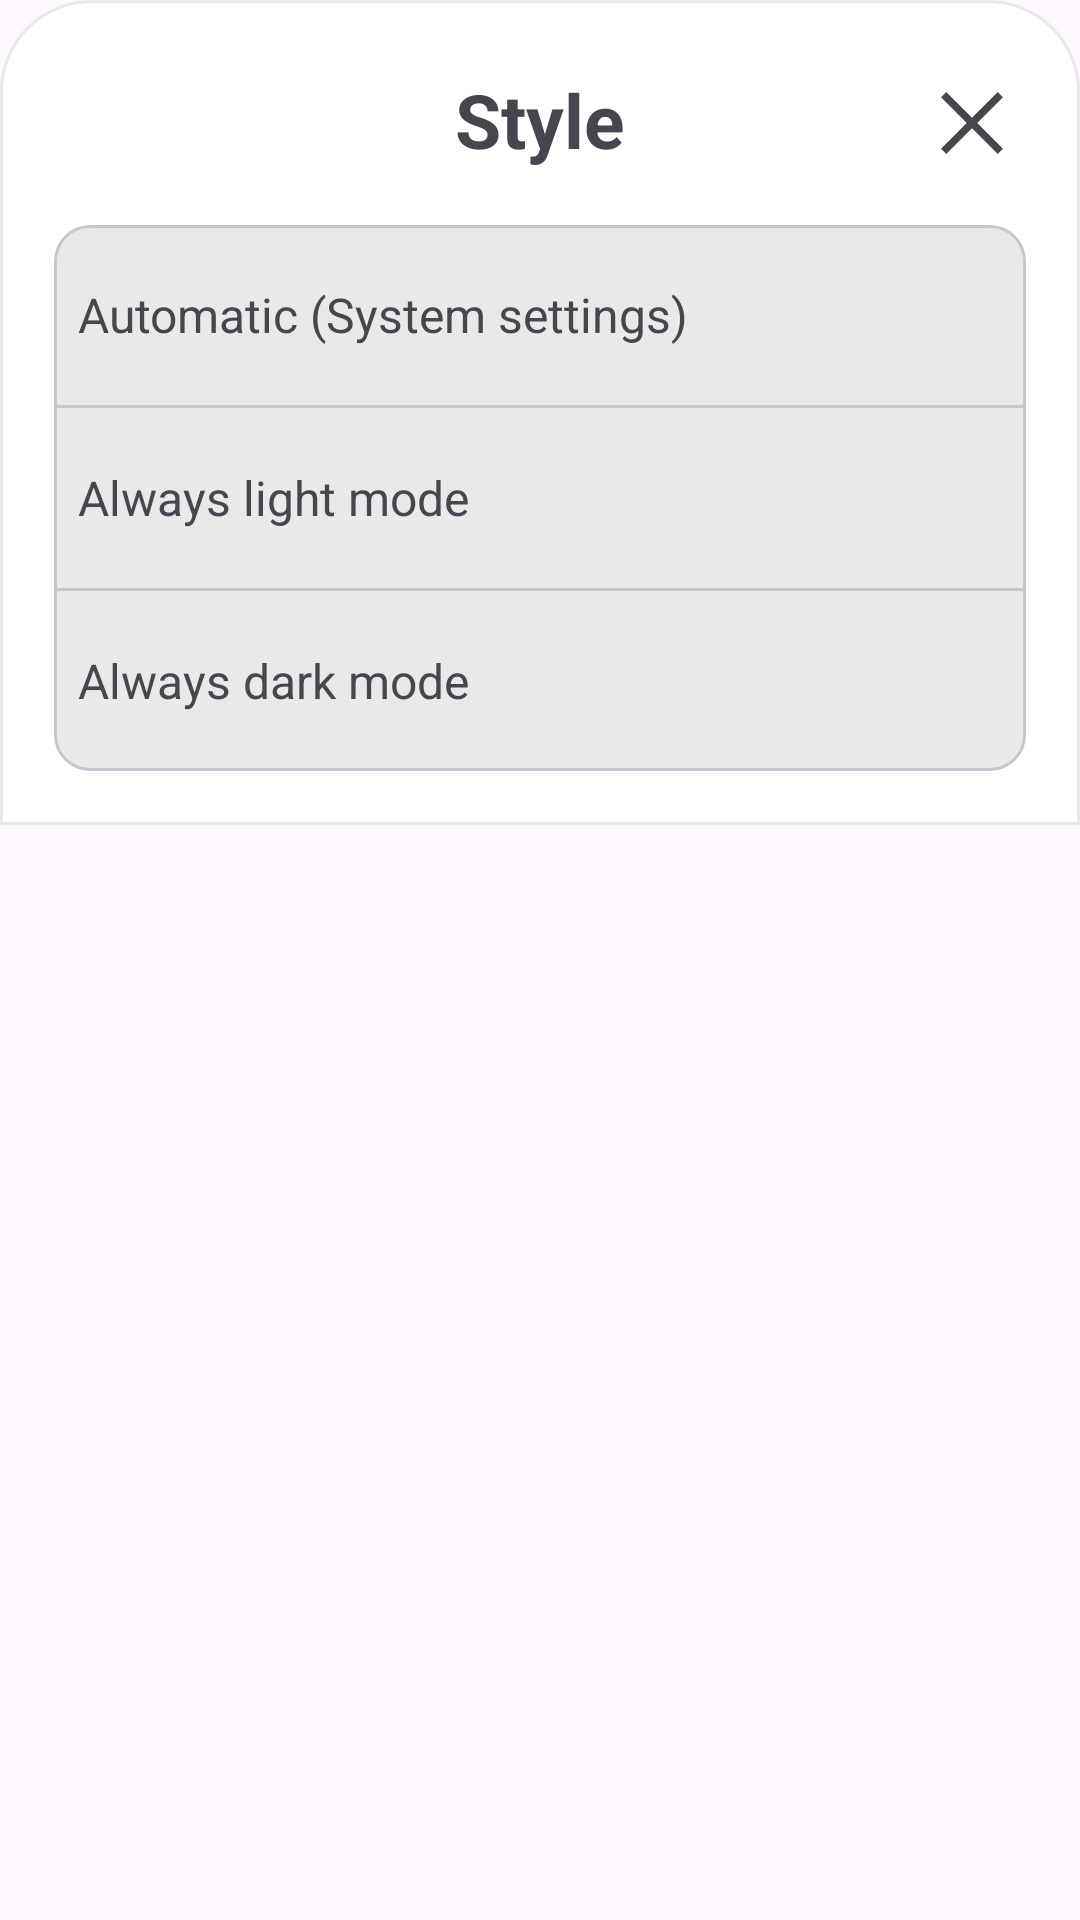

Named icons in this screenshot (1080 x 1920) and their centers, point (x, y):
symbol close: point (972, 123)
